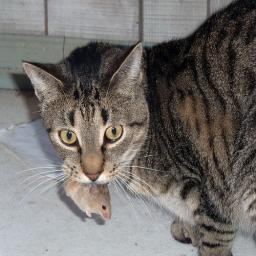catnose: (83, 171, 103, 183)
